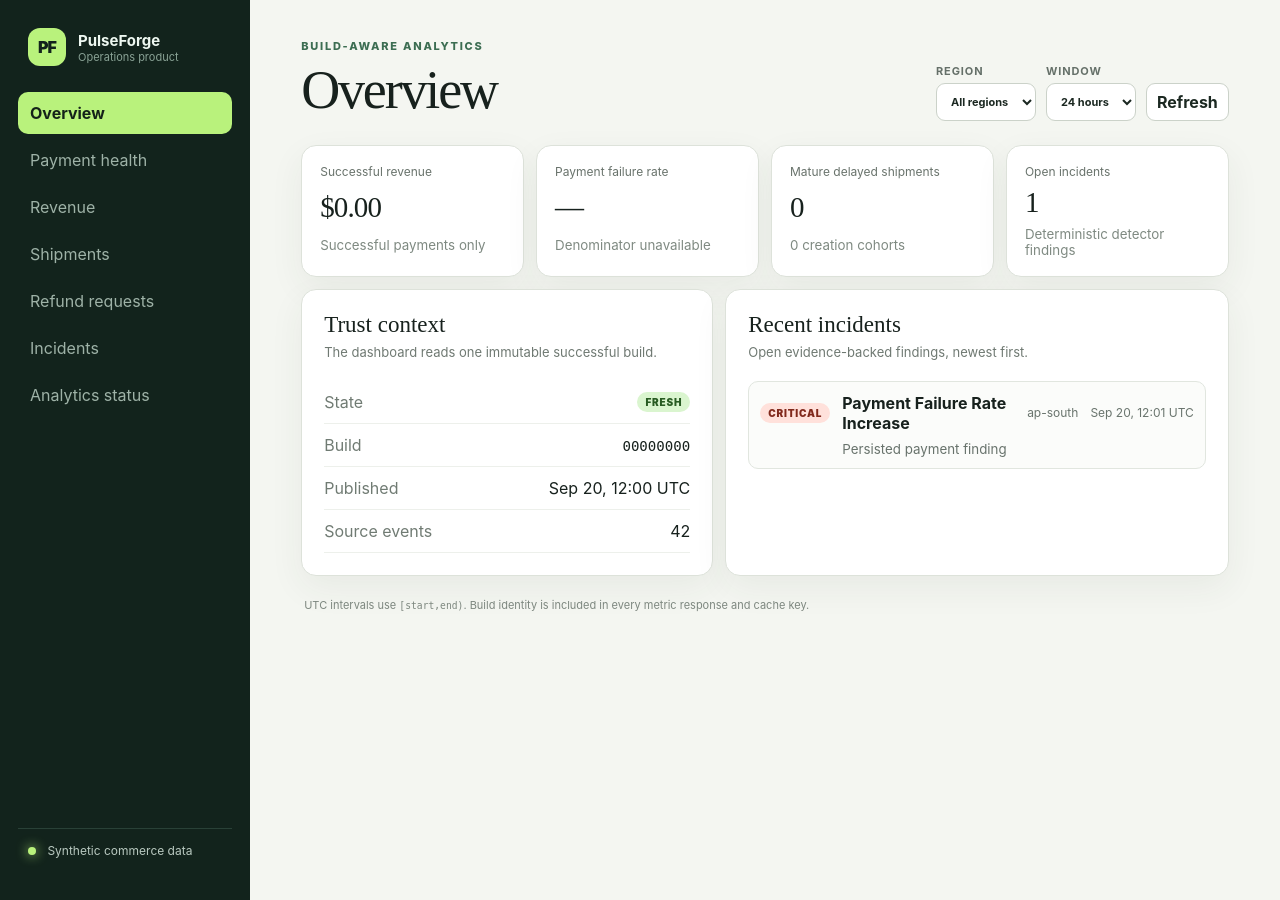
Scenario: operations dashboard › requests an offline explanation only after the user clicks, then shows citations
The width and height of the screenshot is (1280, 900).
What coordinates should you click on to do the following:
click the button "payment failure rate increase"
I would click on:
 (795, 412)
Its box is [748,380,1206,468].
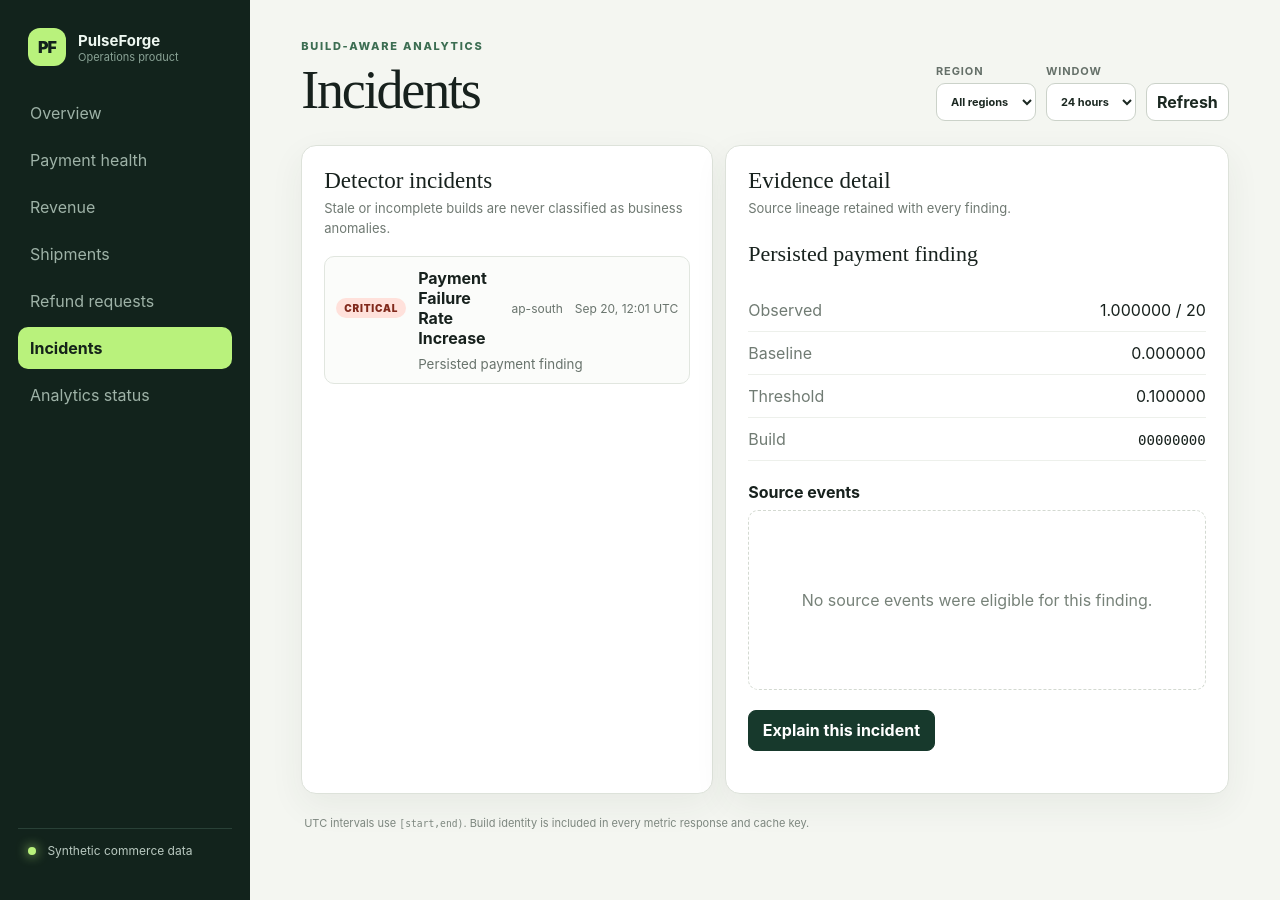
What coordinates should you click on to do the following:
click the button "Explain this incident"
I would click on:
 (841, 730)
Its box is [748,710,935,751].
(page scrolled)
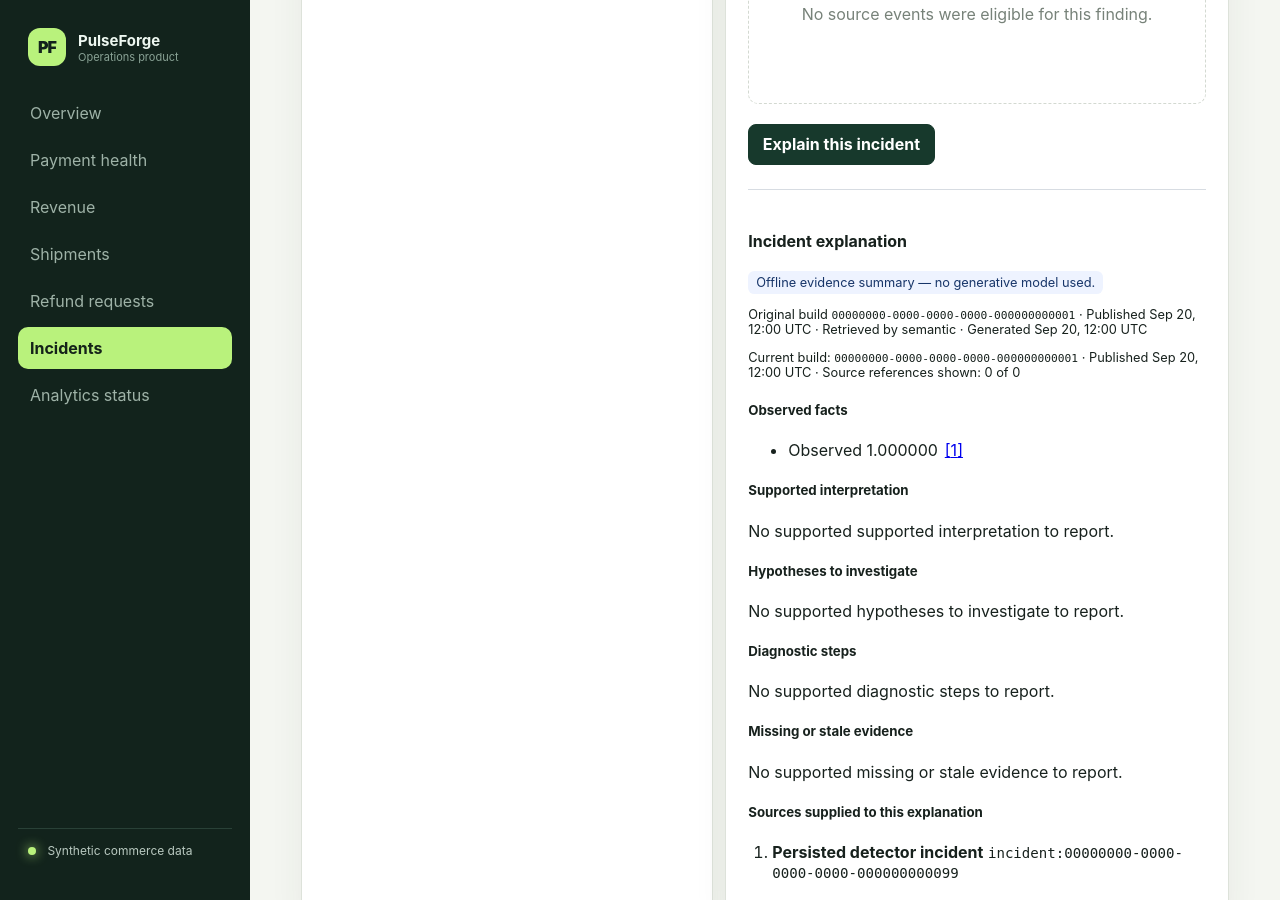
Now the list item "Observed 1.000000" is shown, box [788,440,938,460]
Now the text "Offline evidence summary — no generative model used." is shown, box [748,271,1103,294]
